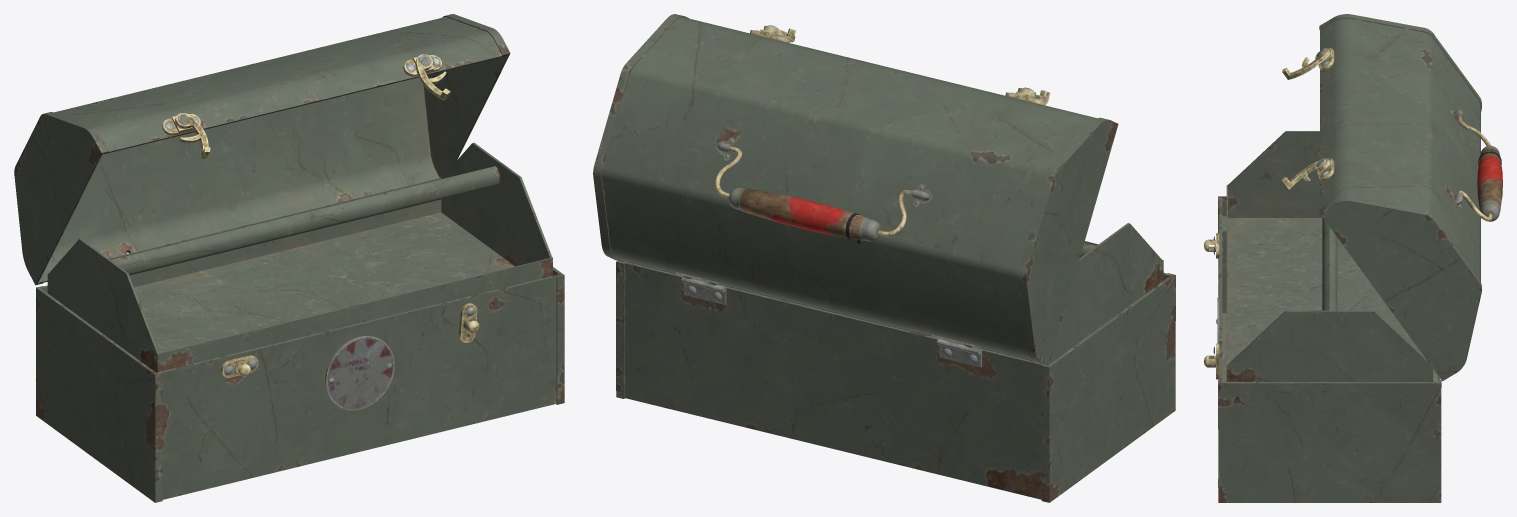
File: metal_toolbox.glb
3 views of the same model, side by side, from view 1: azimuth 30°, elevation 25°; view 2: azimuth 150°, elevation 25°; view 3: azimuth 270°, elevation 25° (orthographic). The views are drawn at different scales.
Visible parts, largest first — view 1: metal_toolbox; view 2: metal_toolbox; view 3: metal_toolbox.
Boxes of the visible parts, box(x1,y1,x2,y2) form: metal_toolbox: box(14, 14, 564, 502); metal_toolbox: box(593, 14, 1175, 502); metal_toolbox: box(1204, 14, 1502, 502).
Size of the model in its own units: 0.4 by 0.3047 by 0.2705.
Materials: 1 (1 with a texture image).
